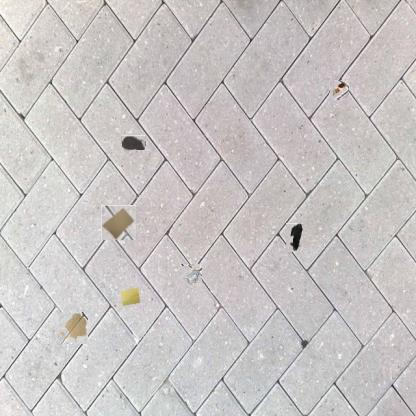dirty: (101, 205, 136, 240), (286, 223, 304, 252), (120, 285, 142, 308), (179, 265, 201, 287), (330, 80, 350, 100)
liquid: (60, 312, 88, 344), (121, 135, 145, 150)
